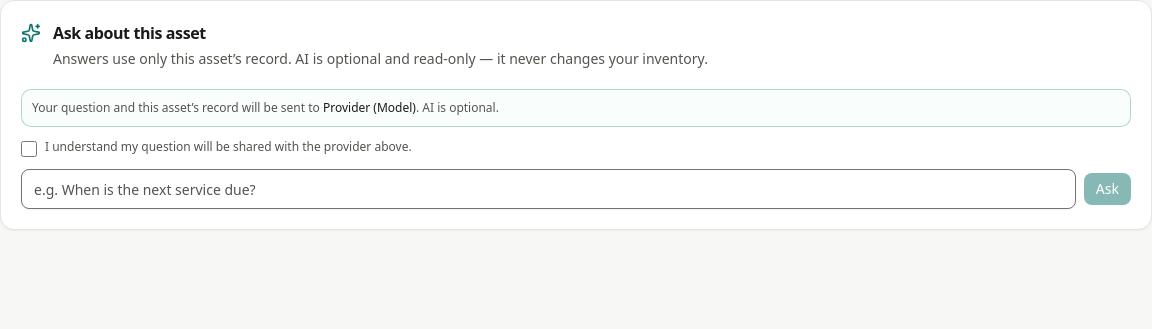
Test: AiChatCard AG-UI streaming › shows a recoverable error when the stream closes before a terminal event
Step 1. Click the checkbox → (29, 149), box x1=21 y1=141 x2=37 y2=157
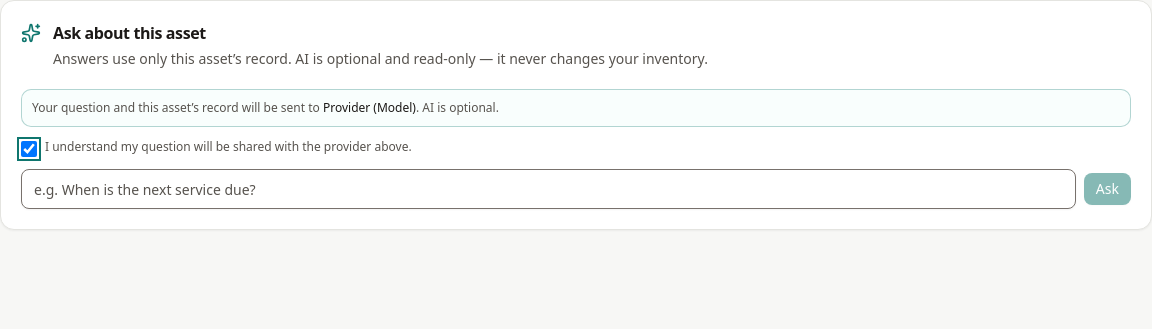
Step 2. Type "What is the status?" into the field named "Question about this asset" → (548, 189), box x1=21 y1=169 x2=1076 y2=209
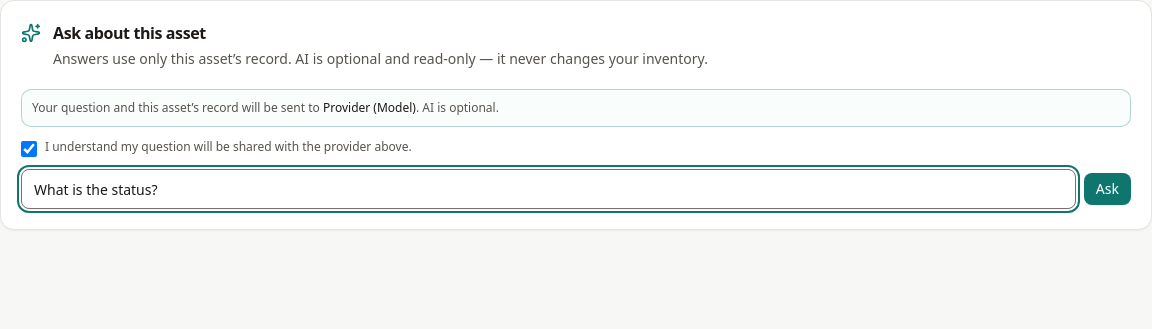
Step 3. Click the button "Ask" → (1107, 189), box x1=1084 y1=173 x2=1131 y2=205
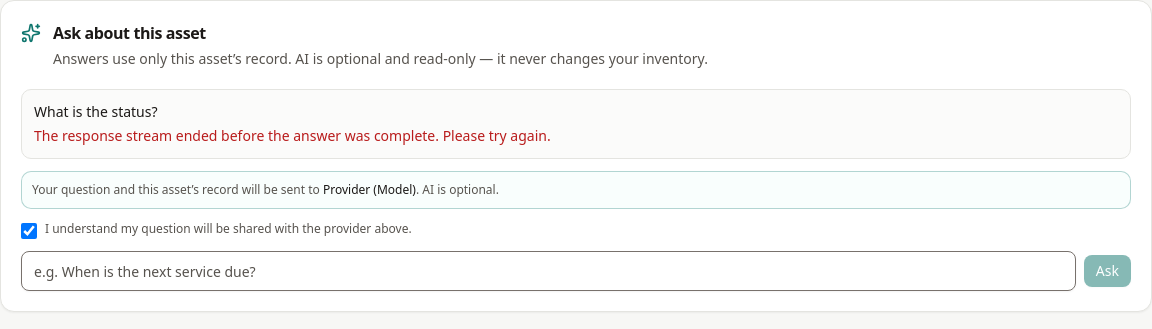
Check: the field named "Question about this asset" is enabled, box x1=21 y1=251 x2=1076 y2=291
Check: the message shows "ended before the answer was complete", box x1=34 y1=126 x2=551 y2=145
